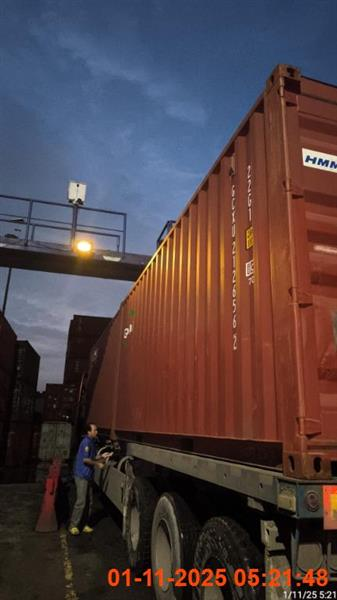broken: (67, 63, 335, 598), (68, 422, 109, 536)
